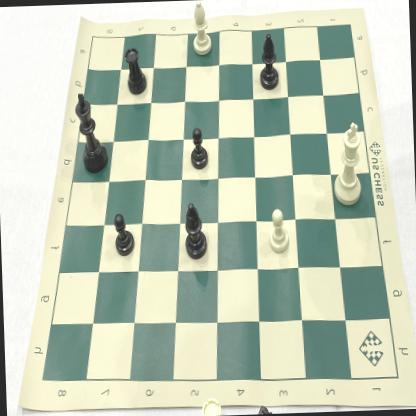black-bishop: (178, 197, 212, 263), (253, 30, 282, 96)
black-king: (74, 86, 110, 181)
black-pawn: (112, 208, 139, 261), (184, 124, 212, 174)
black-rook: (120, 44, 150, 98)
white-bishop: (185, 0, 214, 59)
white-king: (326, 111, 366, 212)
white-pawn: (262, 203, 292, 256)
